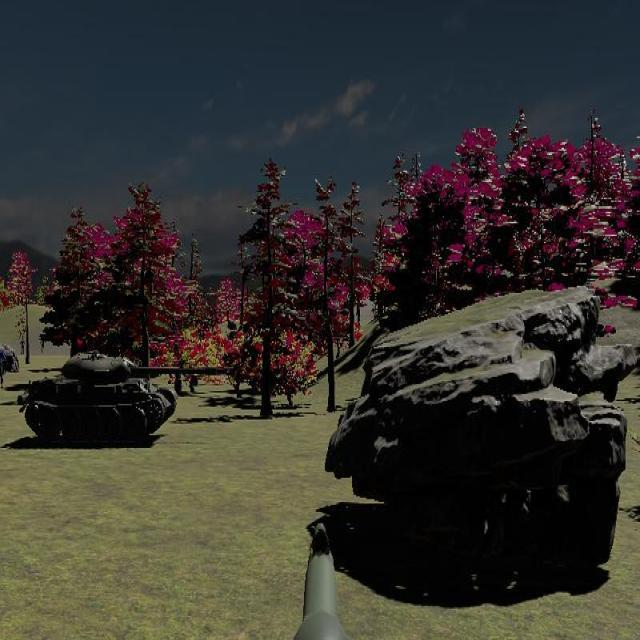Tank: (19, 350, 231, 447)
